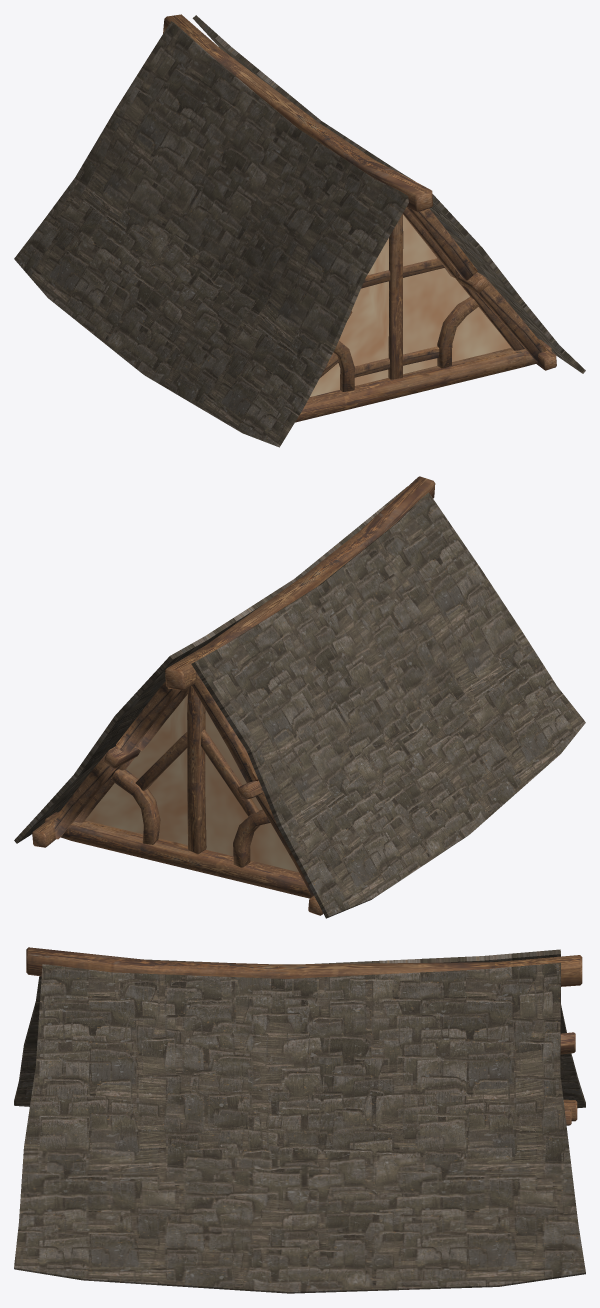
The model's file is Roof 1.fbx.
3 views of the same model, one above another, from view 1: azimuth 30°, elevation 25°; view 2: azimuth 150°, elevation 25°; view 3: azimuth 270°, elevation 25° (orthographic). The views are drawn at different scales.
Visible parts, largest first — view 1: Roof 1; view 2: Roof 1; view 3: Roof 1.
Part boxes in pixels (x1,y1,x2,y2): Roof 1: (14,14,585,447); Roof 1: (14,476,585,918); Roof 1: (14,947,585,1293).
Bounding box in the file's own units: 5.52 × 3.74 × 7.57.
